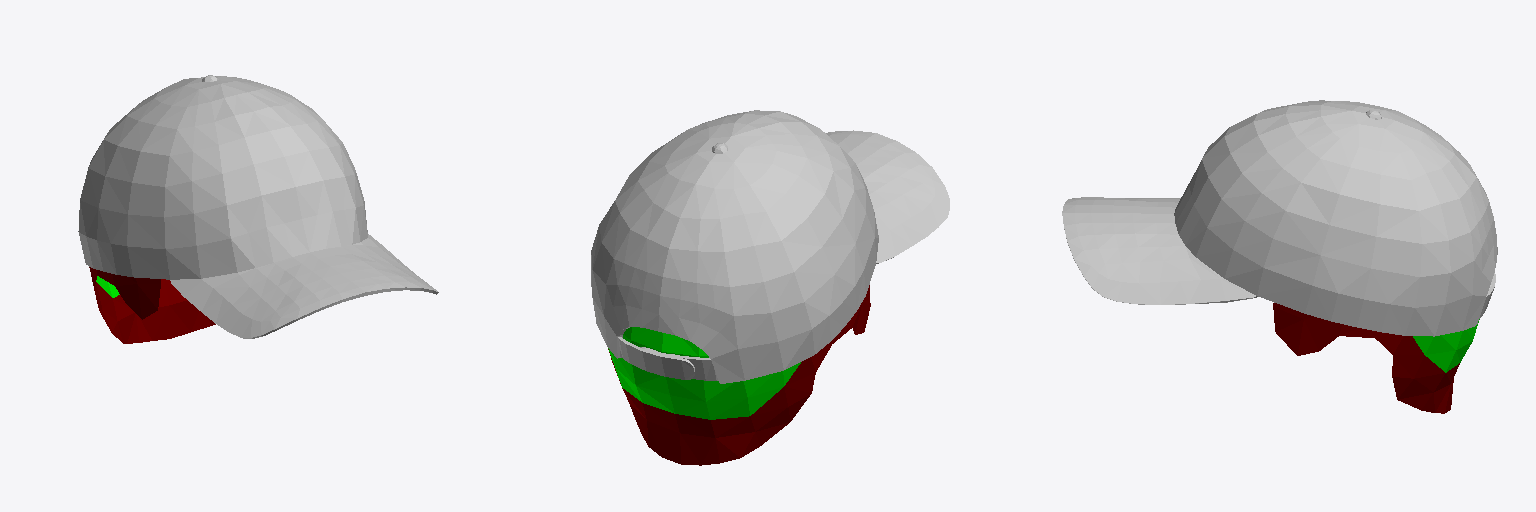
Rendered from BaseballHat_Hair_03.obj.
3 views of the same model, side by side, from view 1: azimuth 30°, elevation 25°; view 2: azimuth 150°, elevation 25°; view 3: azimuth 270°, elevation 25° (orthographic).
Size of the model in its own units: 16.06 by 19.12 by 25.85.